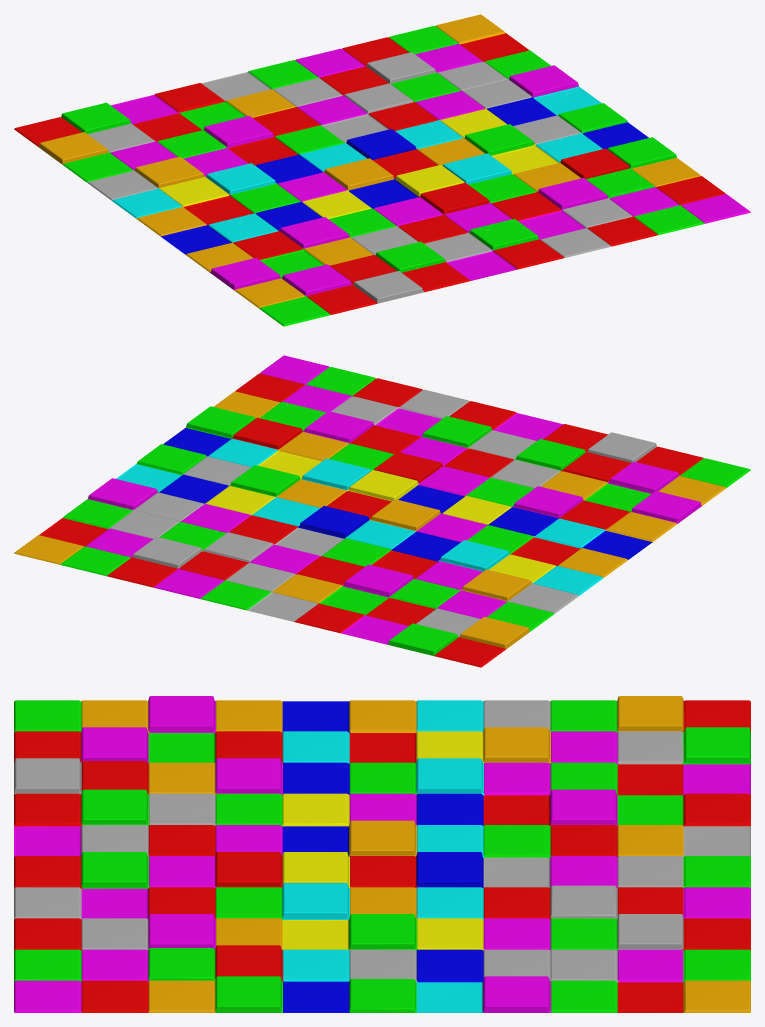
File: marble 2.fbx
3 renders of one model, top to bottom at view 1: azimuth 30°, elevation 25°; view 2: azimuth 150°, elevation 25°; view 3: azimuth 270°, elevation 25°, orthographic. The views are drawn at different scales.
Visible parts, largest first — view 1: trim_base3; view 2: trim_base3; view 3: trim_base3.
Boxes of the visible parts, bbox=[...] form: trim_base3: bbox=[14, 14, 750, 326]; trim_base3: bbox=[14, 355, 750, 667]; trim_base3: bbox=[14, 696, 750, 1012].
Size of the model in its own units: 1000 by 10.24 by 1000.
